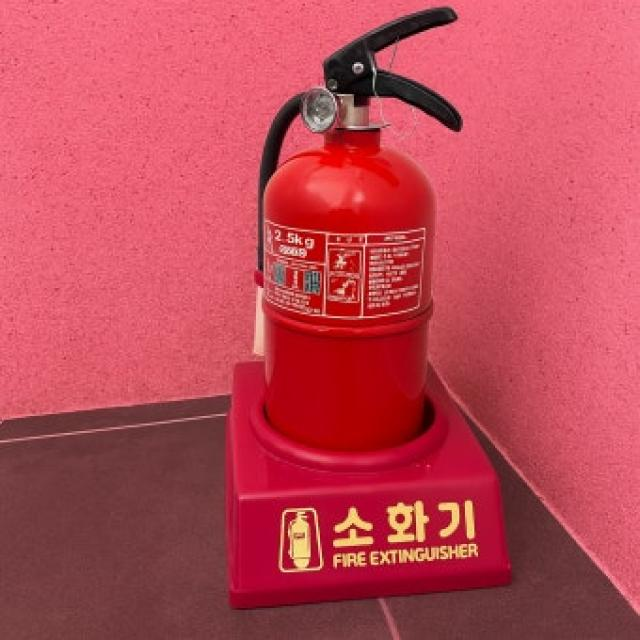pressure gauge: (302, 87, 338, 133)
